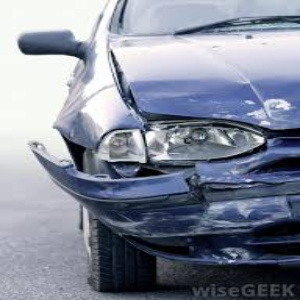bumper: (32, 164, 291, 266)
head_lights: (102, 118, 265, 162)
